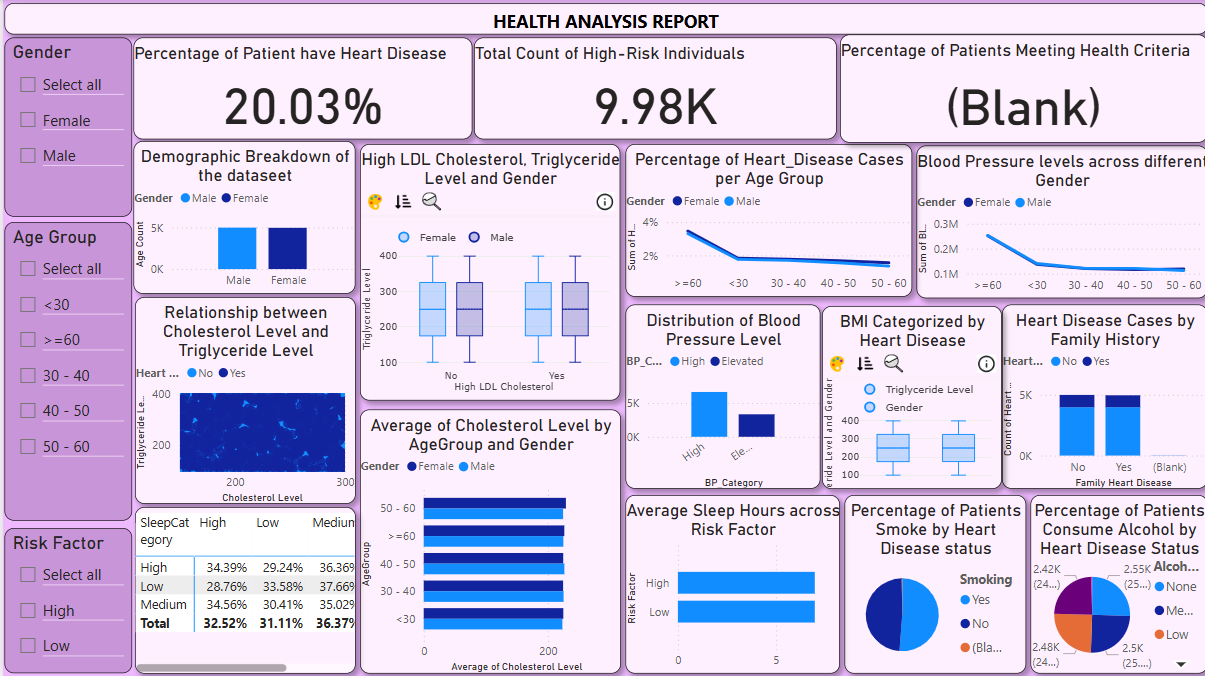

The page's visual inventory and layout, read from the dashboard file:
{"tool":"powerbi","page":{"name":"Page 1","canvas":[1280,720],"ordinal":0},"visuals":[{"type":"textbox","box":[1.6,3.2,1275.7,33.4],"z":0},{"type":"slicer","title":"Gender","fields":{"Values":["Sheet1.Gender"]},"box":[1.7,40,135,190],"z":1000},{"type":"slicer","title":"Age Group","fields":{"Values":["Sheet1.Age Group"]},"box":[1.7,235,135,316.7],"z":2000},{"type":"slicer","title":"Risk Factor","fields":{"Values":["Sheet1.Risk Factor"]},"box":[1.6,559.9,135.2,154.3],"z":3000},{"type":"card","title":"Percentage of Patient have Heart Disease","fields":{"Values":["Sum(Sheet1.%_Heart_Disease)"]},"box":[138.4,39.8,359.5,108.2],"z":4000},{"type":"card","title":"Total Count of High-Risk Individuals","fields":{"Values":["CountNonNull(Sheet1.Risk Factor)"]},"box":[499.5,39.8,384.9,108.2],"z":5000},{"type":"columnChart","title":"Demographic Breakdown of the dataseet","fields":{"Category":["Sheet1.Gender"],"Y":["CountNonNull(Sheet1.Age (bins))"],"Series":["Sheet1.Gender"]},"box":[138.4,149.5,235.4,162.2],"z":6000},{"type":"lineChart","title":"Blood Pressure levels across different Gender","fields":{"Category":["Sheet1.AgeGroup"],"Y":["Sum(Sheet1.Blood Pressure)"],"Series":["Sheet1.Gender"]},"box":[968.7,154.3,308.6,162.2],"z":7000},{"type":"scatterChart","title":"Relationship between Cholesterol Level and Triglyceride Level","fields":{"Series":["Sheet1.Heart Disease Status"],"X":["Sheet1.Cholesterol Level"],"Y":["Sheet1.Triglyceride Level"]},"box":[140,314.9,233.8,219.5],"z":8000},{"type":"lineChart","title":"Percentage of Heart_Disease Cases per Age Group","fields":{"Category":["Sheet1.Age Group"],"Series":["Sheet1.Gender"],"Y":["Sum(Sheet1.Heart_Disease_Percentage)"]},"box":[660.1,152.7,303.8,162.2],"z":9000},{"type":"clusteredBarChart","fields":{"Category":["Sheet1.AgeGroup"],"Y":["Avg(Sheet1.Cholesterol Level)"],"Series":["Sheet1.Gender"]},"box":[378.6,434.2,276.8,279.9],"z":10000},{"type":"columnChart","title":"Distribution of Blood Pressure Level","fields":{"Y":["CountNonNull(Sheet1.Blood Pressure)"],"Category":["Sheet1.BP_Category"],"Series":["Sheet1.BP_Category"]},"box":[660.1,322.9,206.8,195.6],"z":11000},{"type":"columnChart","title":"Heart Disease Cases by Family History","fields":{"Category":["Sheet1.Family Heart Disease"],"Series":["Sheet1.Heart Disease Status"],"Y":["CountNonNull(Sheet1.Heart Disease Status)"]},"box":[1059.3,322.9,217.9,195.6],"z":12000},{"type":"pieChart","title":"Percentage of Patients Smoke by Heart Disease status","fields":{"Y":["CountNonNull(Sheet1.Heart Disease Status)"],"Category":["Sheet1.Smoking"]},"box":[892.3,524.9,192.5,189.3],"z":13000},{"type":"pieChart","title":"Percentage of Patients Consume Alcohol by Heart Disease Status ","fields":{"Y":["CountNonNull(Sheet1.Heart Disease Status)"],"Category":["Sheet1.Alcohol Consumption"]},"box":[1089.6,524.9,187.7,189.3],"z":14000},{"type":"barChart","title":"Average Sleep Hours across Risk Factor","fields":{"Y":["Avg(Sheet1.Average_Sleep_Hours)"],"Category":["Sheet1.Risk Factor"]},"box":[660.1,524.9,227.5,189.3],"z":15000},{"type":"pivotTable","title":"Stress and sleep level affect the Risk of Health Disease","fields":{"Values":["Sum(Sheet1.Heart_Disease_Percentage)"],"Columns":["Sheet1.Stress Level"],"Rows":["Sheet1.SleepCategory"]},"box":[140,537.6,233.8,176.6],"z":16000},{"type":"card","title":"Percentage of Patients Meeting Health Criteria","fields":{"Values":["Sum(Sheet1.PercentageHealthyPatients)"]},"box":[887.6,36.6,389.7,114.5],"z":17000},{"type":"boxandwhiskerwithpoints6C29D629F202A5FF5B6B023486584FCA","title":"BMI Categorized by Heart Disease","fields":{"col_0":["Sheet1.High LDL Cholesterol"],"col_2":["Sheet1.Triglyceride Level"],"col_3":["Sheet1.Gender"]},"box":[868.5,324.5,190.9,194.1],"z":18000},{"type":"boxandwhiskerwithpoints6C29D629F202A5FF5B6B023486584FCA","fields":{"col_0":["Sheet1.High LDL Cholesterol"],"col_1":["Sheet1.Gender"],"col_2":["Sheet1.Triglyceride Level"]},"box":[378,152,276,272],"z":19000}]}

Visuals, with their boxes in screenshot pixels (x1, y1, x2, y2), scaled from the page's 1280x720 canvas onto the 1205x676 screenshot:
textbox: crop(2, 3, 1202, 34)
"Gender" slicer: crop(2, 38, 129, 216)
"Age Group" slicer: crop(2, 221, 129, 518)
"Risk Factor" slicer: crop(2, 526, 129, 671)
"Percentage of Patient have Heart Disease" card: crop(130, 37, 469, 139)
"Total Count of High-Risk Individuals" card: crop(470, 37, 833, 139)
"Demographic Breakdown of the dataseet" columnChart: crop(130, 140, 352, 293)
"Blood Pressure levels across different Gender" lineChart: crop(912, 145, 1202, 297)
"Relationship between Cholesterol Level and Triglyceride Level" scatterChart: crop(132, 296, 352, 502)
"Percentage of Heart_Disease Cases per Age Group" lineChart: crop(621, 143, 907, 296)
clusteredBarChart - Sheet1.AgeGroup x Avg(Sheet1.Cholesterol Level): crop(356, 408, 617, 670)
"Distribution of Blood Pressure Level" columnChart: crop(621, 303, 816, 487)
"Heart Disease Cases by Family History" columnChart: crop(997, 303, 1202, 487)
"Percentage of Patients Smoke by Heart Disease status" pieChart: crop(840, 493, 1021, 671)
"Percentage of Patients Consume Alcohol by Heart Disease Status " pieChart: crop(1026, 493, 1202, 671)
"Average Sleep Hours across Risk Factor" barChart: crop(621, 493, 836, 671)
"Stress and sleep level affect the Risk of Health Disease" pivotTable: crop(132, 505, 352, 671)
"Percentage of Patients Meeting Health Criteria" card: crop(836, 34, 1202, 142)
"BMI Categorized by Heart Disease" boxandwhiskerwithpoints6C29D629F202A5FF5B6B023486584FCA: crop(818, 305, 997, 487)
boxandwhiskerwithpoints6C29D629F202A5FF5B6B023486584FCA - Sheet1.High LDL Cholesterol x Sheet1.Gender: crop(356, 143, 616, 398)
